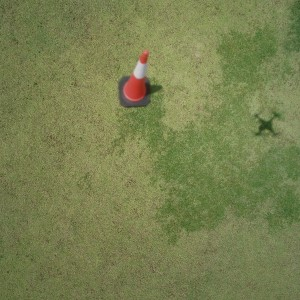traffic cone: (118, 51, 150, 108)
